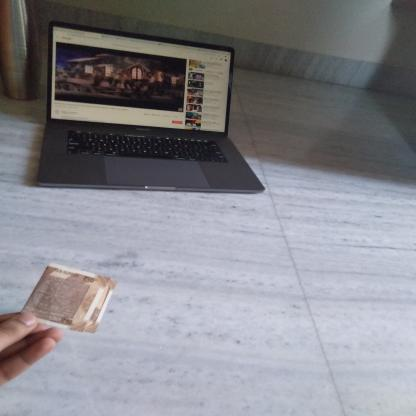New10Back: (18, 262, 113, 334)
